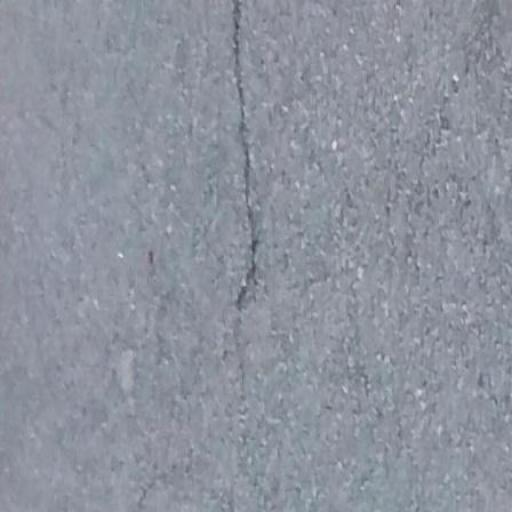spalling: (227, 4, 264, 316)
